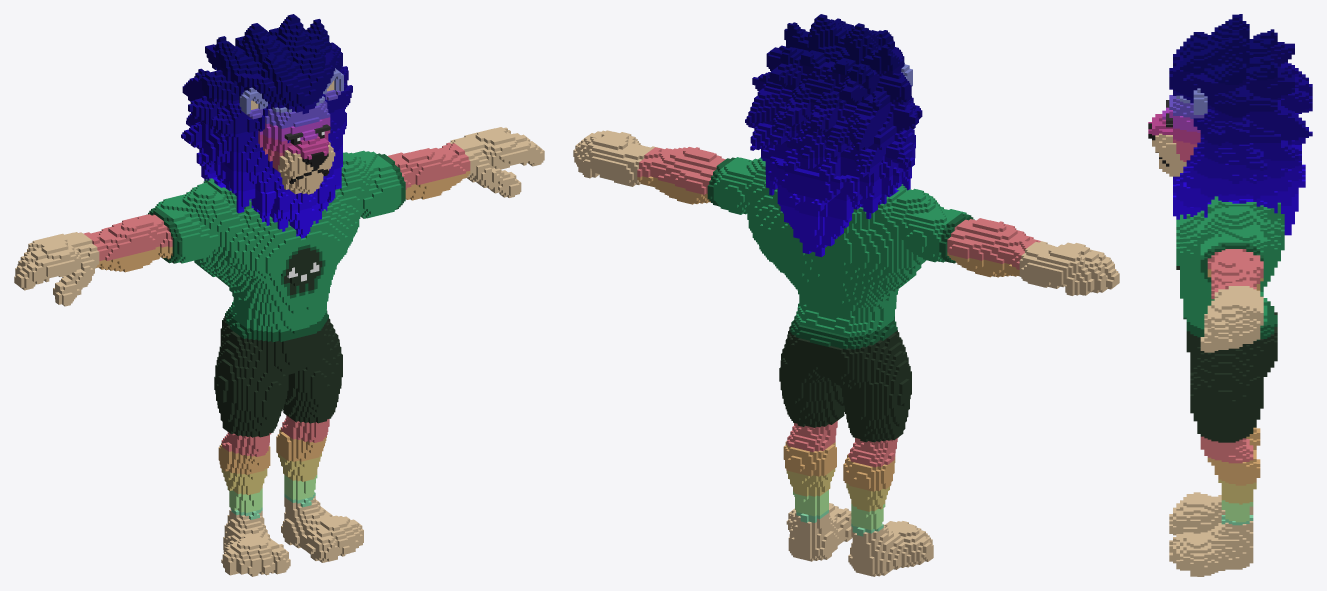
The model's file is 403-ZopL1lIu.glb.
The picture shows the model from 3 angles, left to right: view 1: azimuth 30°, elevation 25°; view 2: azimuth 150°, elevation 25°; view 3: azimuth 270°, elevation 25°; orthographic projection. The views are drawn at different scales.
Visible parts, largest first — view 1: sad; view 2: sad; view 3: sad.
Part boxes in pixels (bbox=[...]): sad: bbox=[14, 14, 544, 576]; sad: bbox=[573, 14, 1119, 576]; sad: bbox=[1148, 14, 1312, 576].
Bounding box in the file's own units: 17.2 × 16.5 × 4.7.
Materials: 5 (5 with a texture image).
